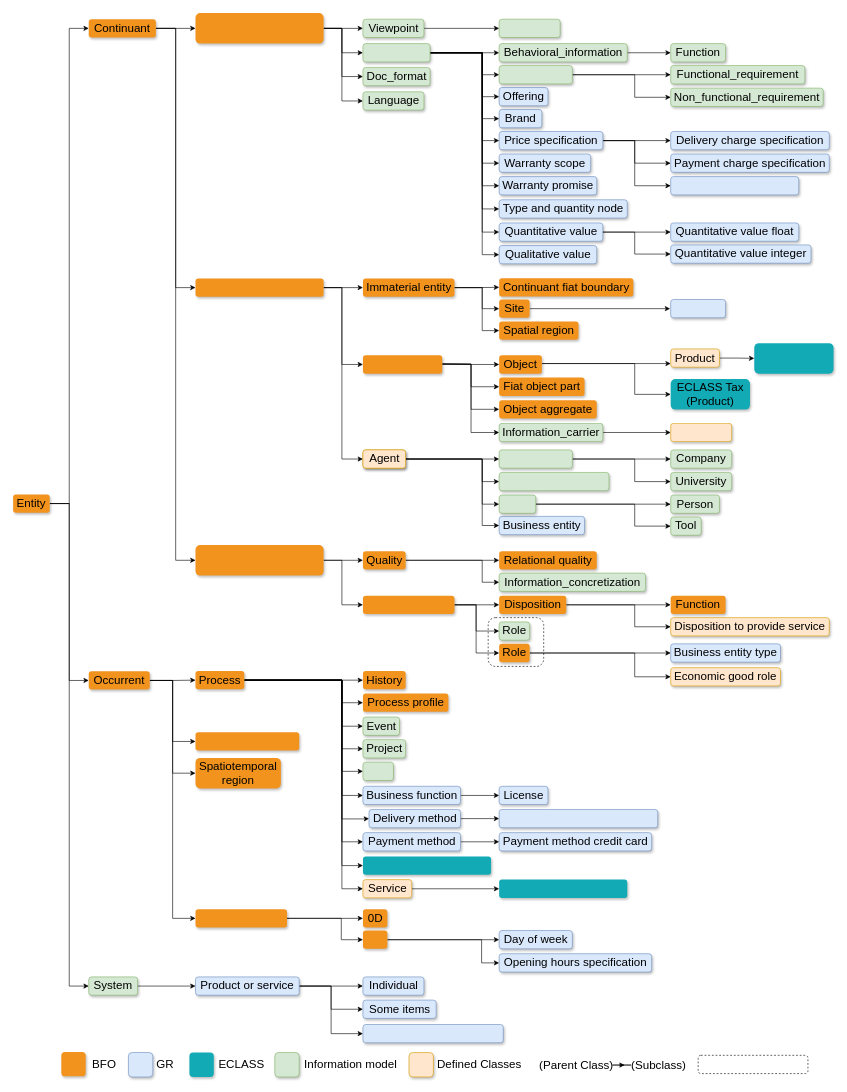
The diagram is 847 pixels wide and 1092 high, and some of its shapes have lost their labels. Each missing label, with the centre of its shape:
1D: the point at 375,940
Actor: the point at 517,505
Delivery mode parcel service: the point at 578,819
Discipline: the point at 530,29
ECLASS Gen (Product): the point at 794,359
ECLASS Gen (Service): the point at 563,889
ECLASS Tax (Service): the point at 427,866
Equivalent Classes: the point at 753,1064
Generically dependent continuant: the point at 260,29
Independent continuant: the point at 260,288
Information: the point at 397,53
Location: the point at 698,309
Material entity: the point at 403,365
Organization: the point at 536,459
Organizational_unit: the point at 554,482
Process boundary: the point at 248,742
Product or service model: the point at 433,1034
Realizable entity: the point at 409,605
Requirement: the point at 536,75
Specifically dependent continuant: the point at 260,561
Task: the point at 378,772
Temporal region: the point at 241,918
Unit price specification: the point at 735,186
Webpage: the point at 701,433
